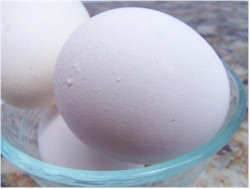eggs: (54, 3, 230, 167), (2, 0, 91, 111)
